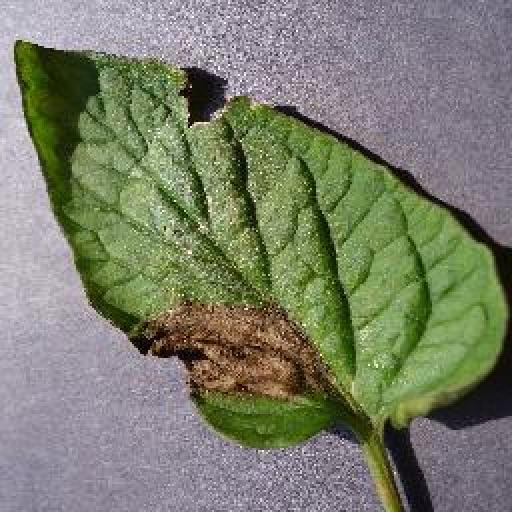Late Blight: (6, 32, 502, 451)
